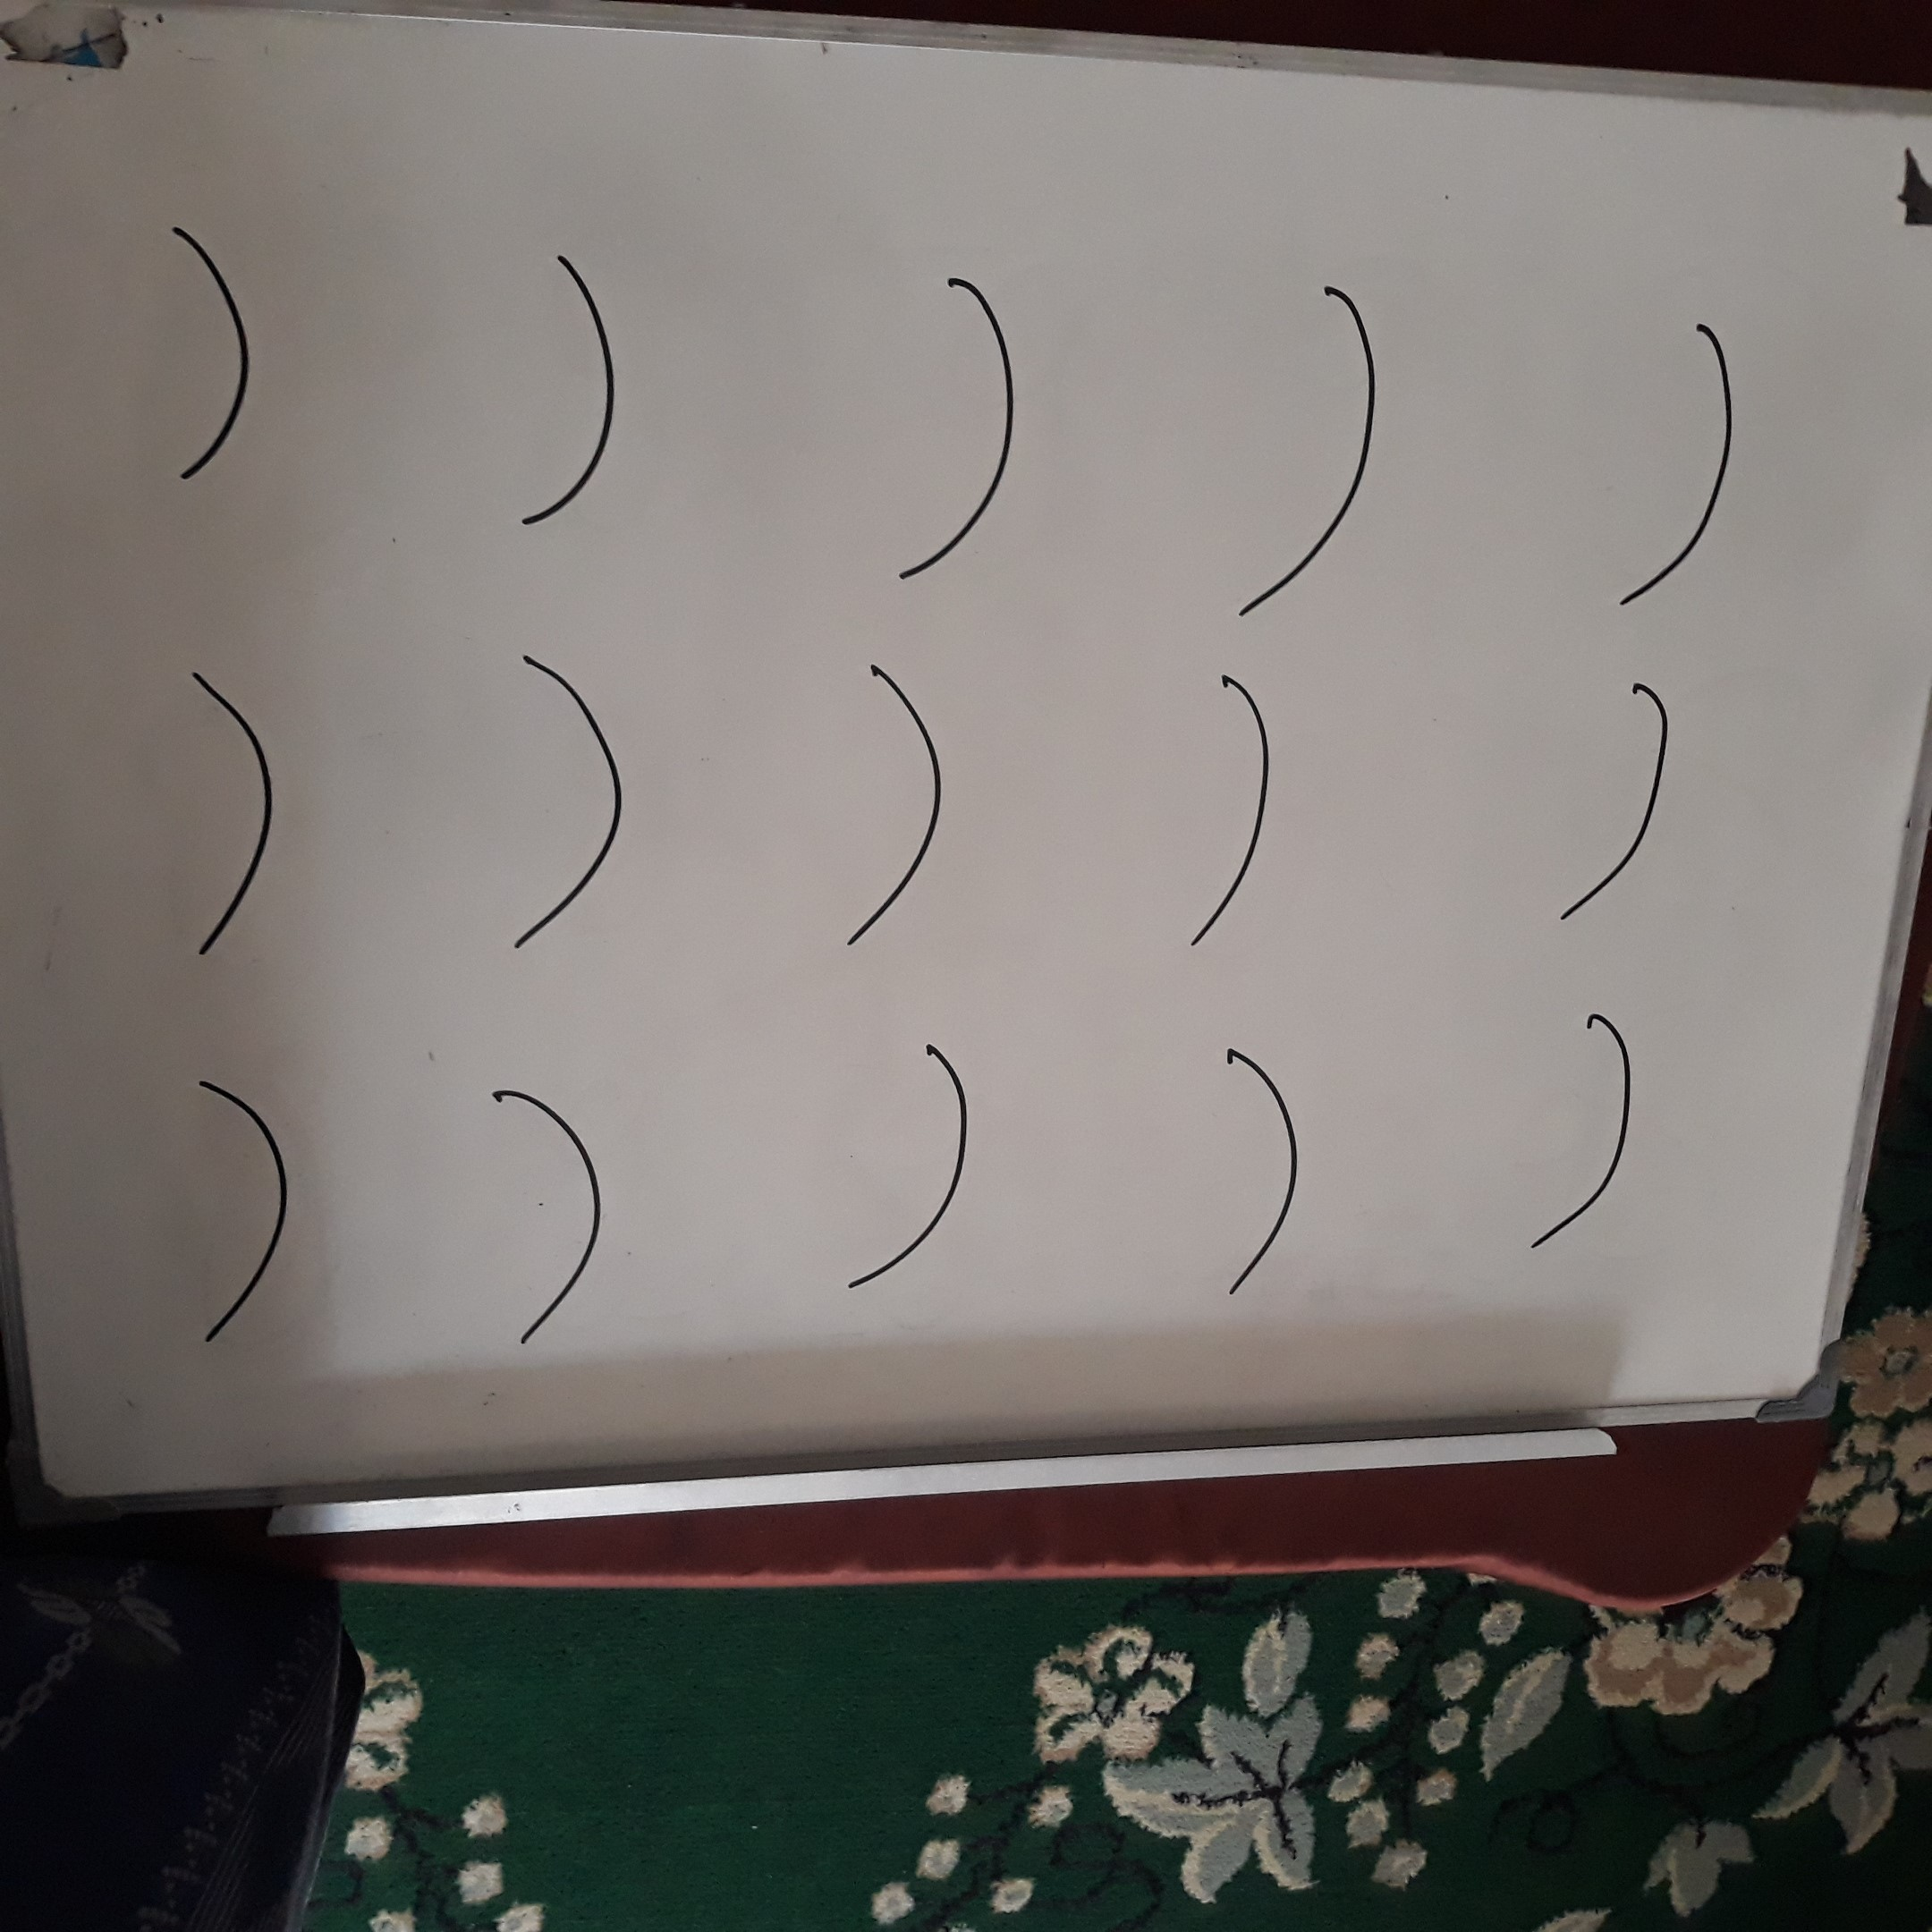closebracket: (1207, 252, 1415, 642), (1522, 665, 1756, 959), (1565, 290, 1767, 627), (453, 1069, 657, 1382), (809, 1024, 1021, 1324), (485, 631, 655, 981), (139, 1063, 343, 1353), (1159, 651, 1348, 962), (885, 249, 1038, 605), (813, 625, 963, 971), (134, 195, 295, 513), (1489, 1004, 1674, 1270), (168, 644, 308, 994), (502, 216, 645, 555), (1178, 1037, 1346, 1311)
